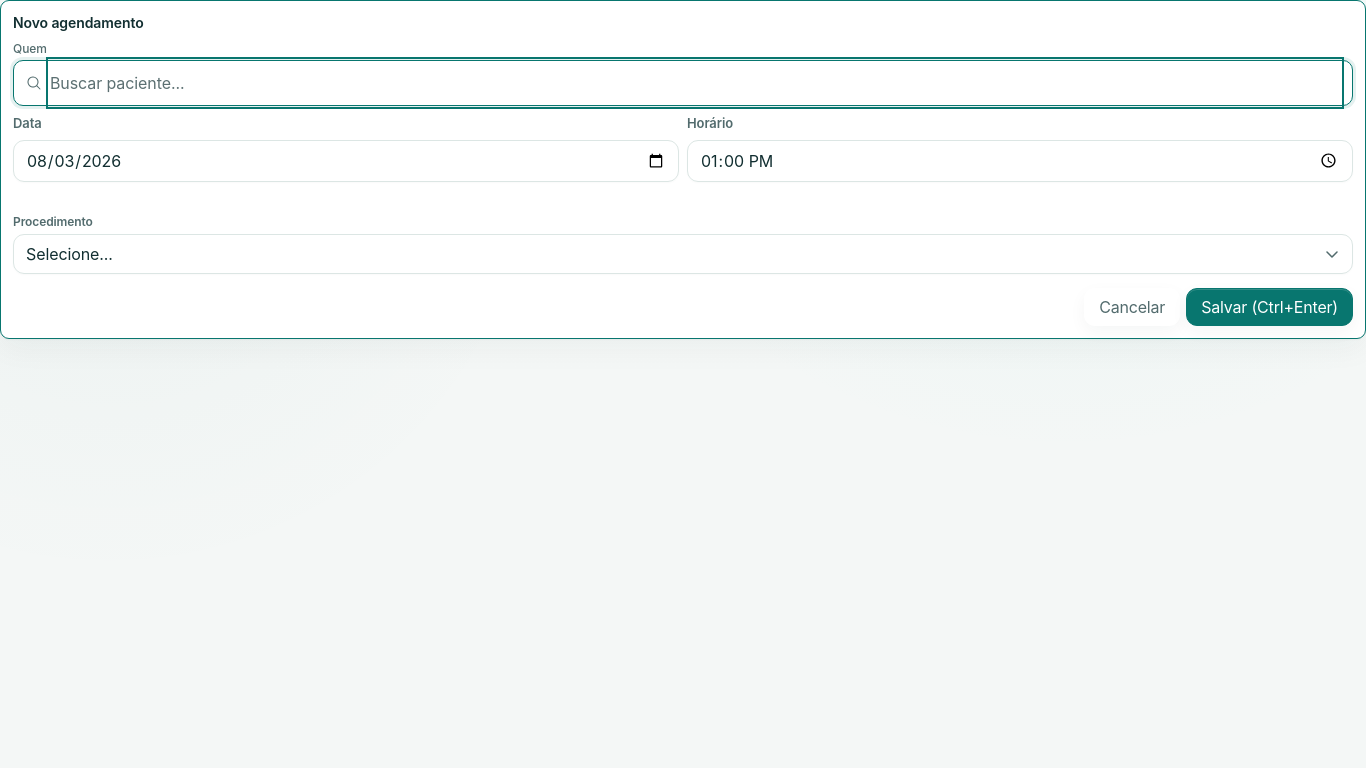
Test case: fluxo critico (a) — recepcionista agenda paciente novo, com ele na linha › Esc com texto digitado pede confirmacao antes de fechar
The image size is (1366, 768).
Type "maria" into the dropdown labelled "Quem".
click(695, 83); type("maria")  # box [50,61,1340,105]
Wait 120 ms
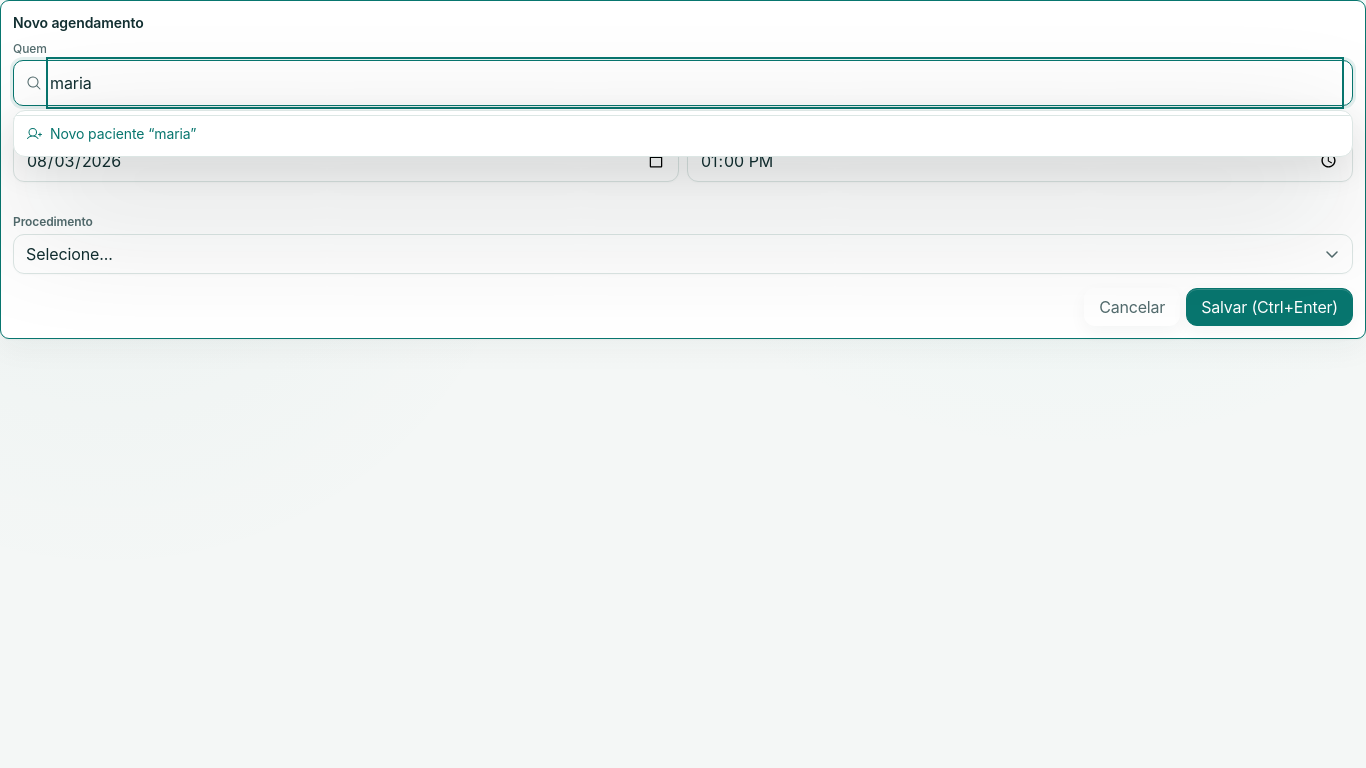
Press Escape
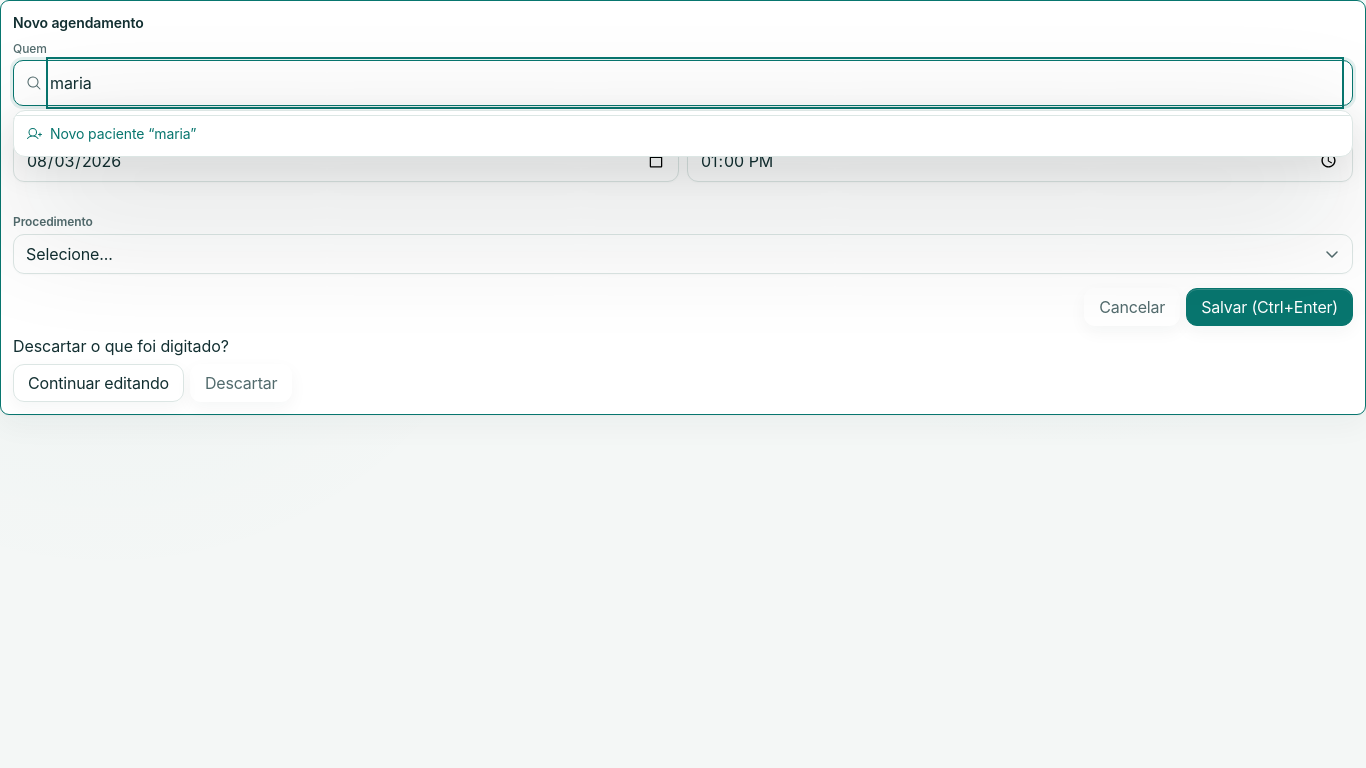
Check: the dialog "Descartar o que foi digitado? Continuar editando Descartar" is shown, box [13,336,292,402]
